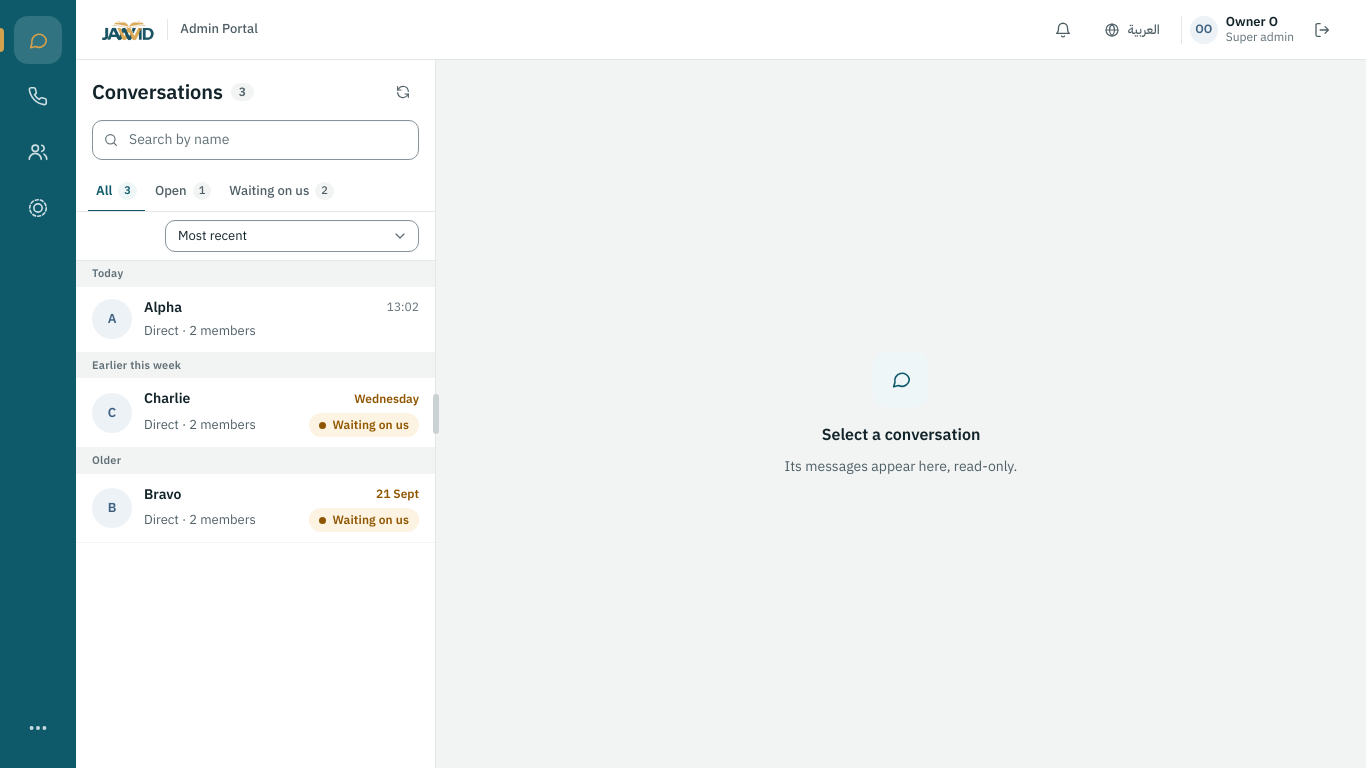
Test: Conversations › groups the list by day and can sort oldest first, keeping the order in the URL
Check: the text "Alpha" is shown, box [144,297,182,318]
Check: the heading "Today" is shown, box [76,261,435,287]
Click the dropdown named "Sort".
click(292, 236)  # box [165,220,419,252]
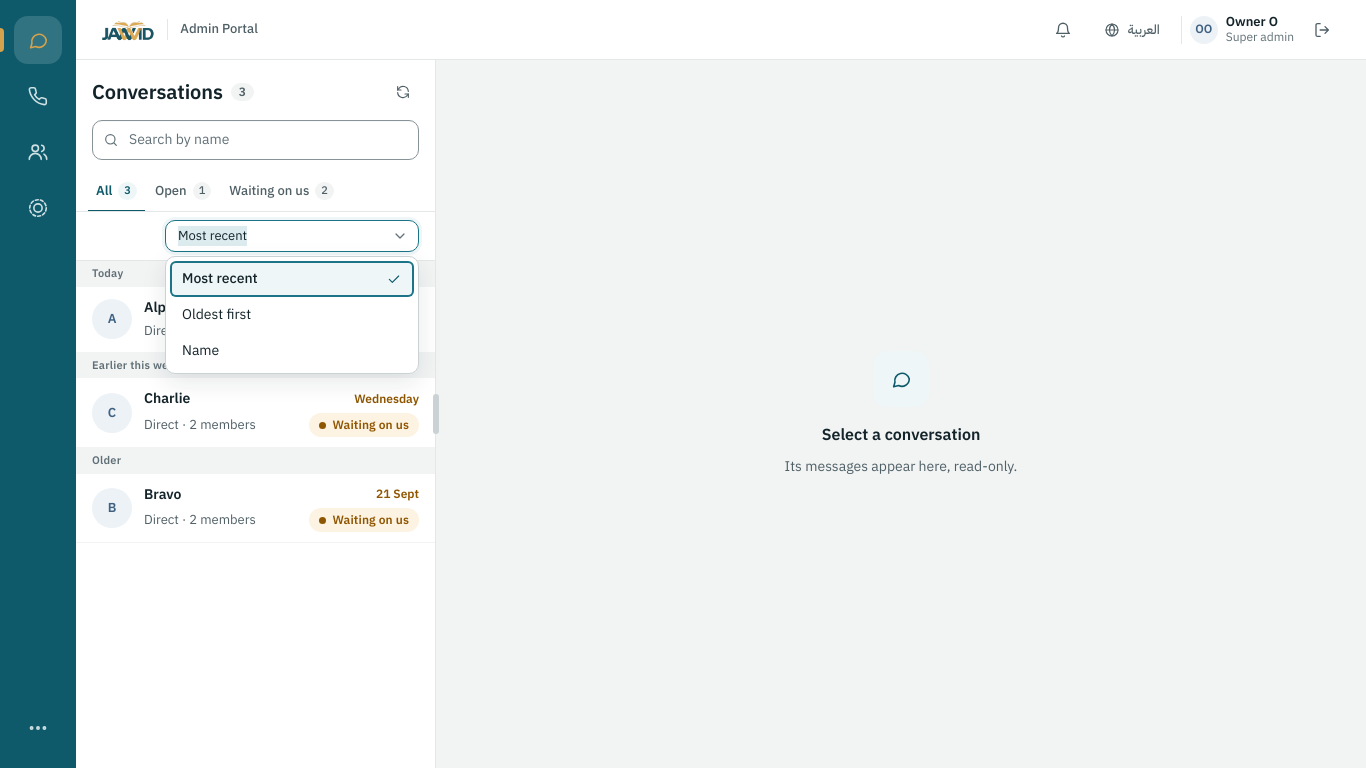
Click the option "Oldest first".
click(217, 315)  # box [182,304,251,325]
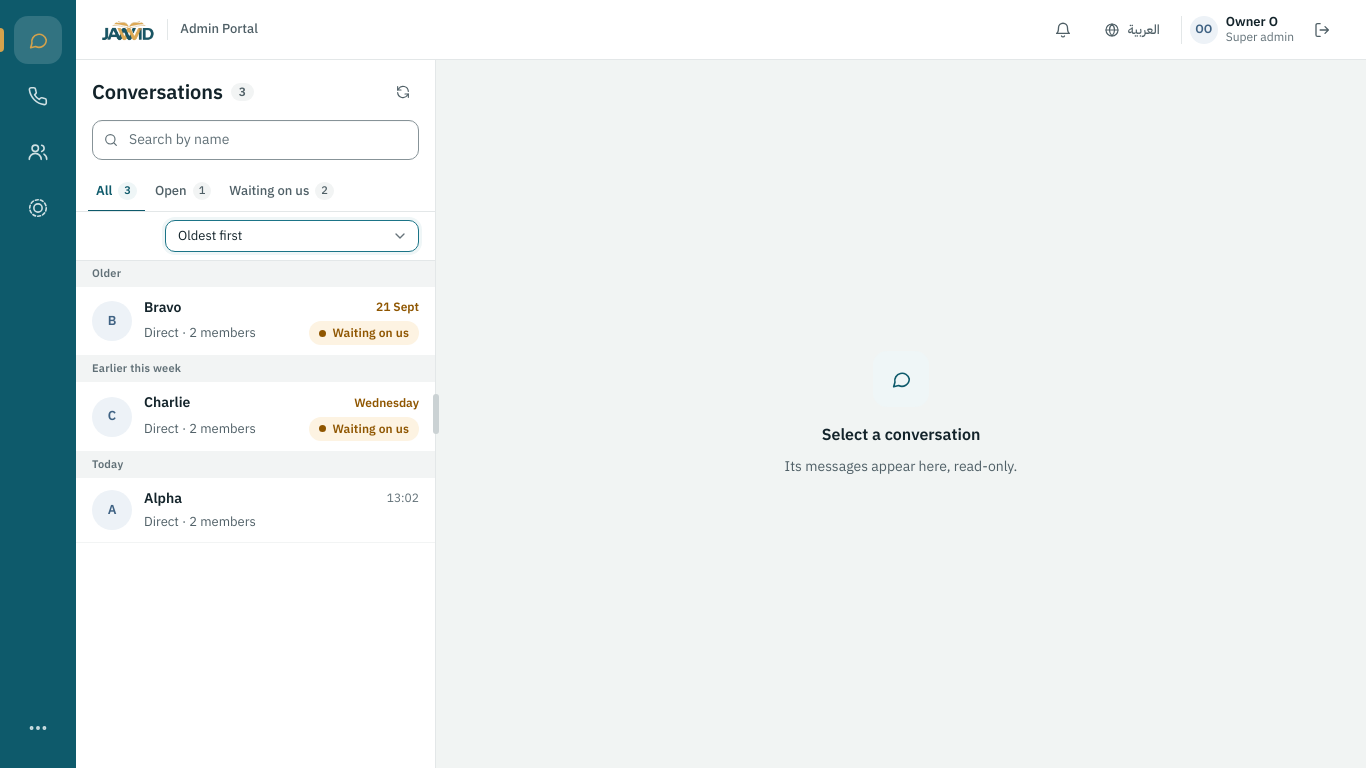
Click the dropdown named "Sort".
click(292, 236)  # box [165,220,419,252]
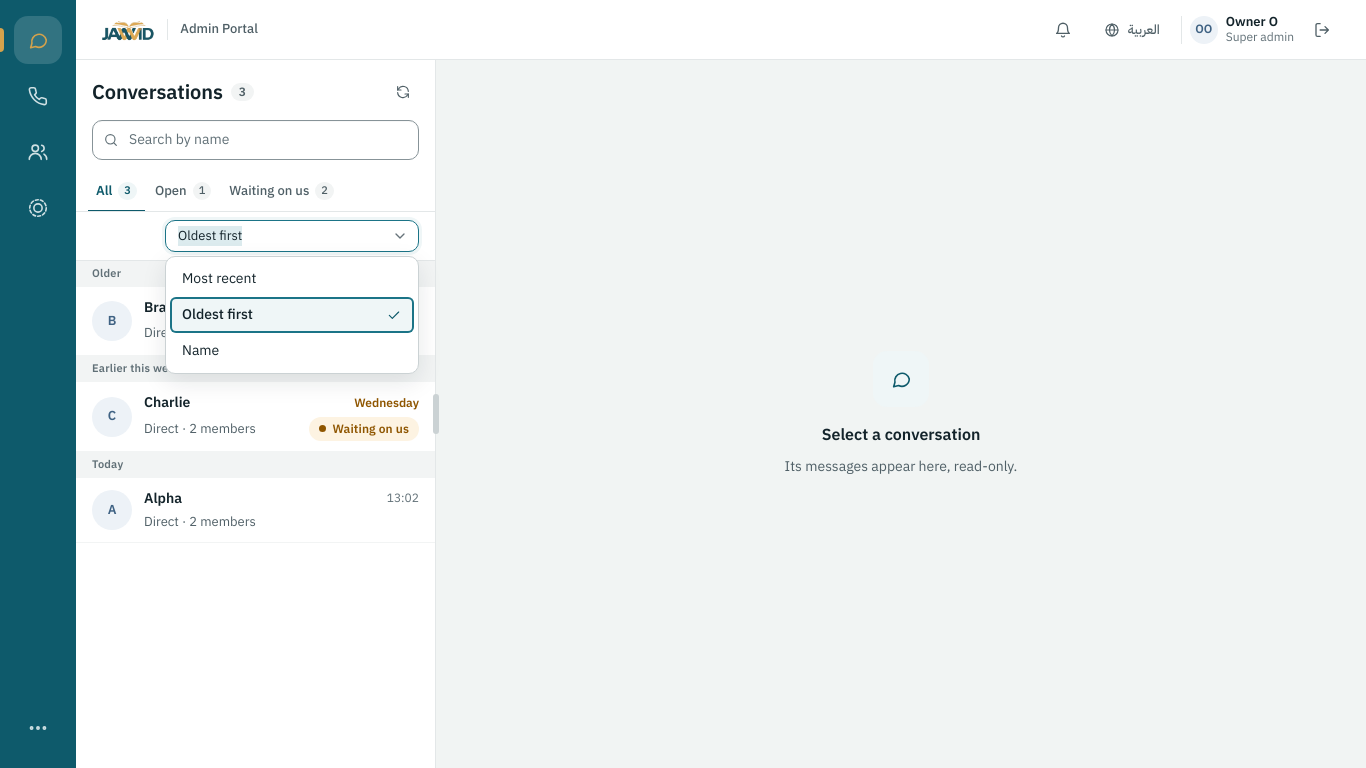
Click the option "Name".
click(201, 351)  # box [182,340,219,361]
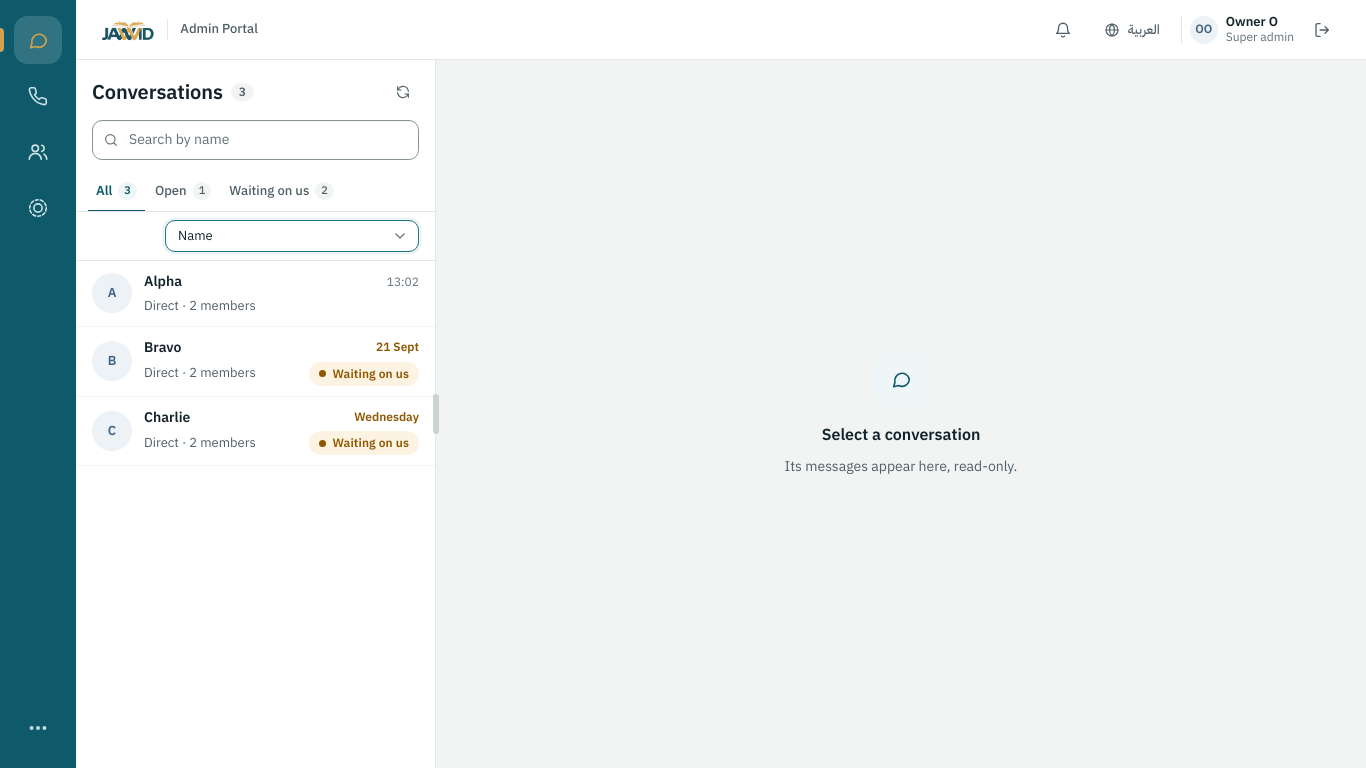
Check: the heading "Today" is gone
